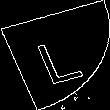L_N: (25, 26, 85, 84)
